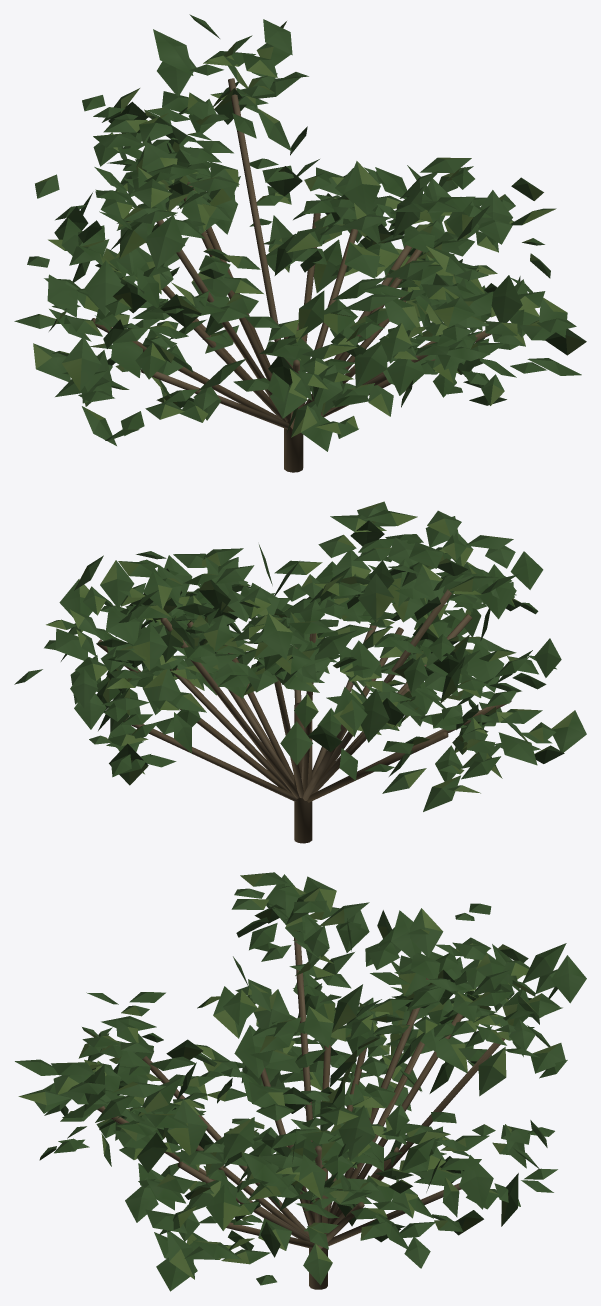
The model's file is LeafyShrub.fbx.
3 renders of one model, top to bottom at view 1: azimuth 30°, elevation 25°; view 2: azimuth 150°, elevation 25°; view 3: azimuth 270°, elevation 25°, orthographic. The views are drawn at different scales.
Parts seen in each view (by area): view 1: LeafyShrub; view 2: LeafyShrub; view 3: LeafyShrub.
Part boxes in pixels (x1=…): LeafyShrub: x1=14, y1=14, x2=586, y2=472; LeafyShrub: x1=14, y1=501, x2=586, y2=843; LeafyShrub: x1=15, y1=872, x2=586, y2=1291.
Bounding box in the file's own units: 165 × 114 × 169.
1 material, 1 textured.
